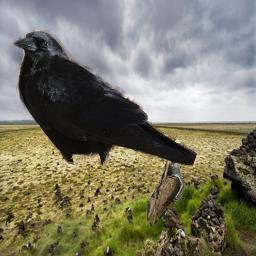Crow: (11, 30, 198, 167)
Cuckoo: (146, 157, 202, 228)
